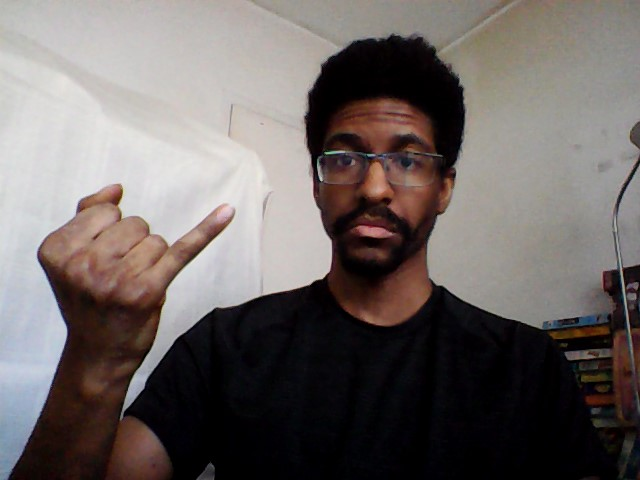j: (27, 177, 239, 358)
